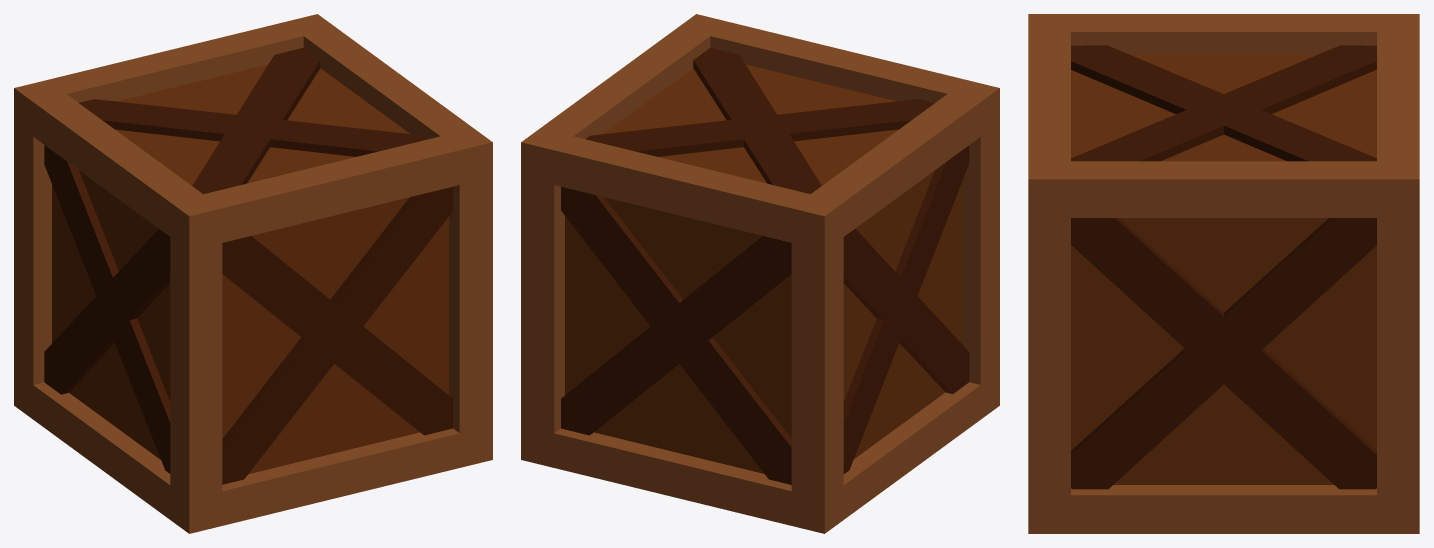
Rendered from woodenBox.fbx.
3 renders of one model, left to right at view 1: azimuth 30°, elevation 25°; view 2: azimuth 150°, elevation 25°; view 3: azimuth 270°, elevation 25°, orthographic. The views are drawn at different scales.
Parts seen in each view (by area): view 1: Cube, Cube.003, Cube.001; view 2: Cube, Cube.003, Cube.001; view 3: Cube, Cube.001, Cube.003.
Boxes of the visible parts, x1=… form: Cube: x1=14, y1=14, x2=492, y2=533; Cube.003: x1=44, y1=48, x2=453, y2=484; Cube.001: x1=52, y1=64, x2=448, y2=474; Cube: x1=521, y1=14, x2=999, y2=533; Cube.003: x1=561, y1=48, x2=969, y2=484; Cube.001: x1=565, y1=64, x2=961, y2=473; Cube: x1=1028, y1=14, x2=1419, y2=533; Cube.001: x1=1071, y1=54, x2=1376, y2=484; Cube.003: x1=1071, y1=45, x2=1376, y2=489.
Size of the model in its own units: 255 by 255 by 255.
